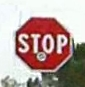stop: (13, 15, 71, 72)
